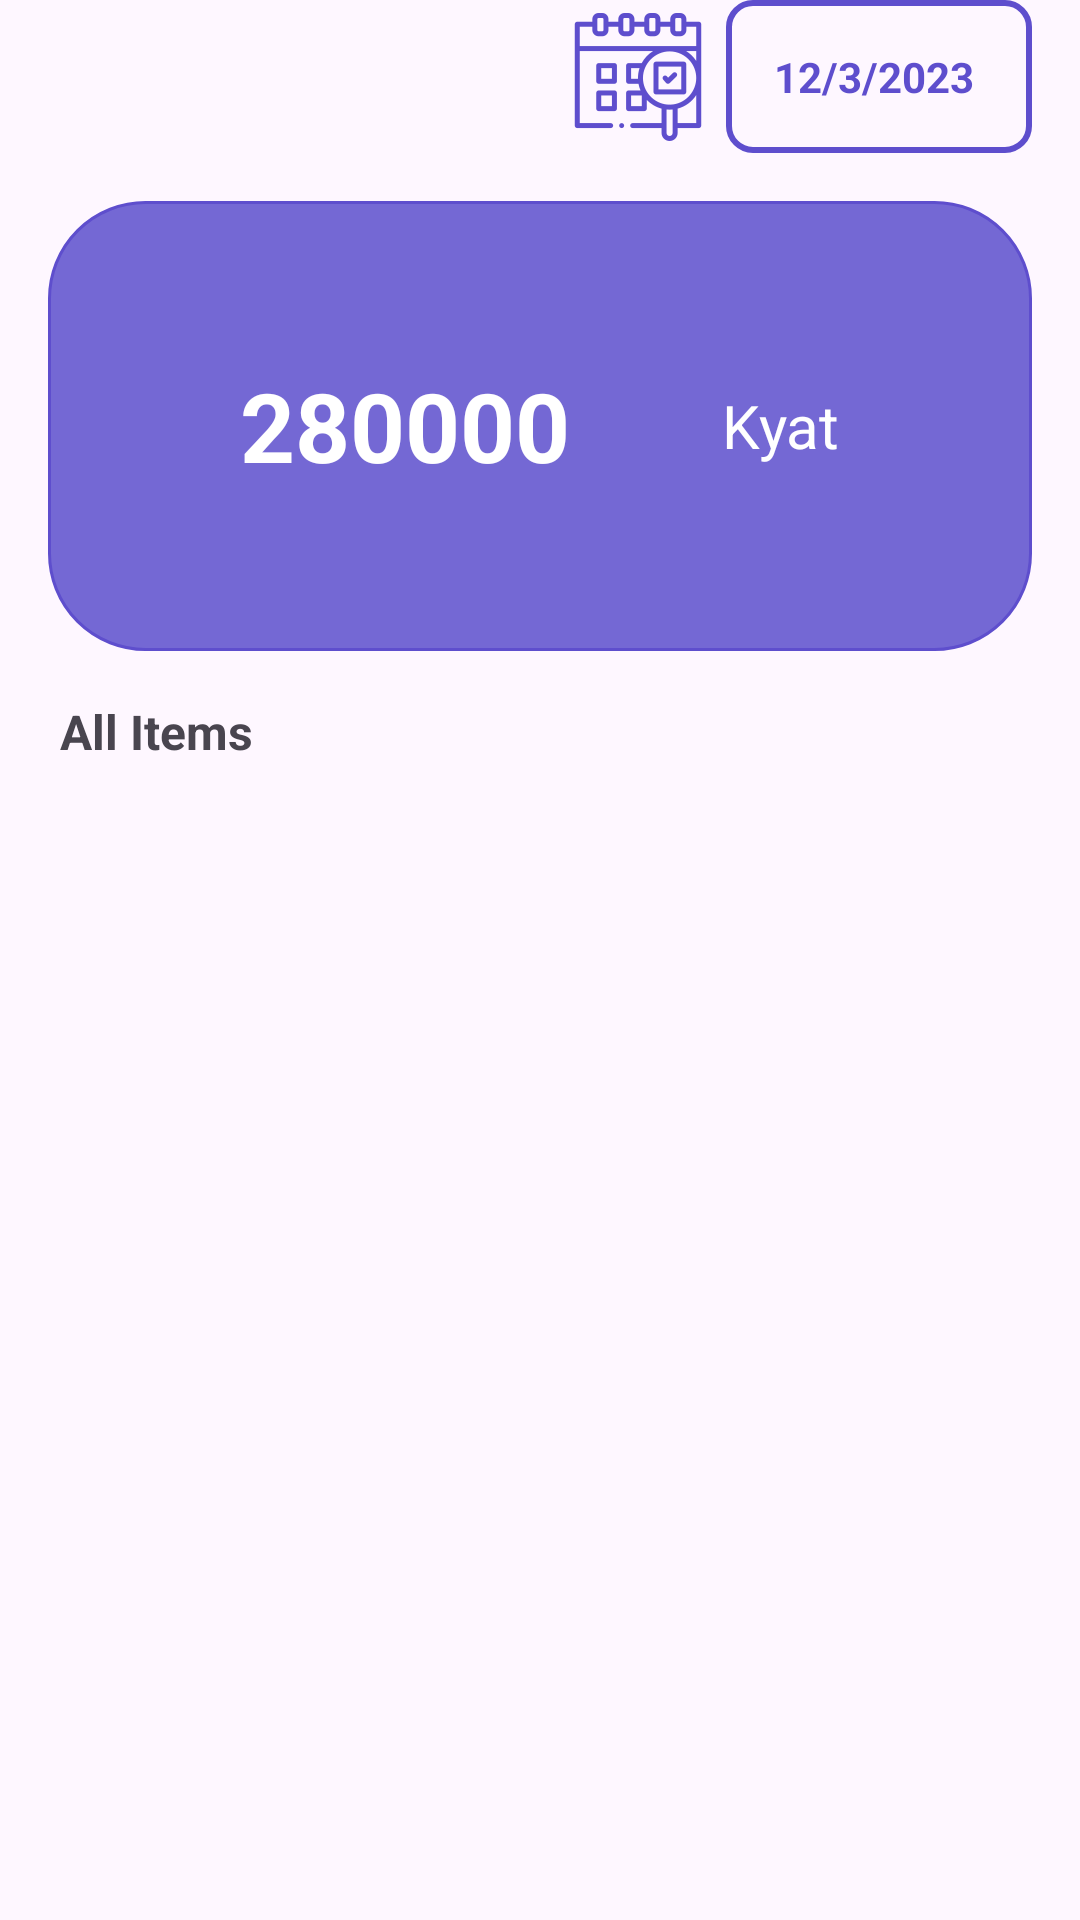

Locate icon controls on the screen. Image size 1080x1920, boxes as [left=x1, top=y1, right=x2, bottom=y2].
search date: [left=574, top=13, right=702, bottom=141]
